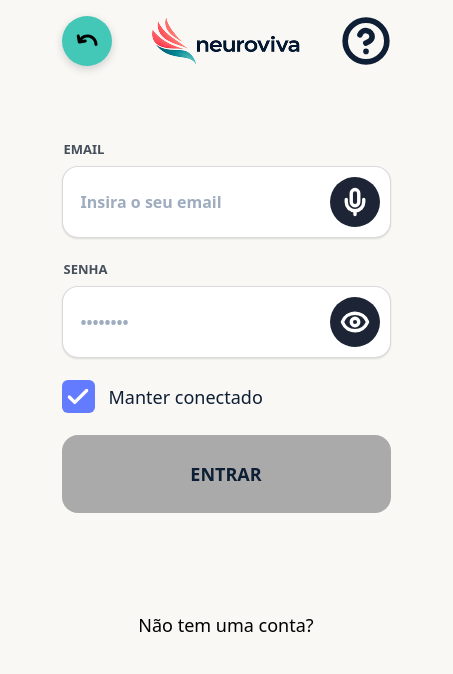
Test: login with Dona Cida mock still opens the active care plan
In the field labelled "EMAIL": coordinates (199, 202) top-left (78, 190), bottom-right (320, 214), type "donacida@limbse.com"
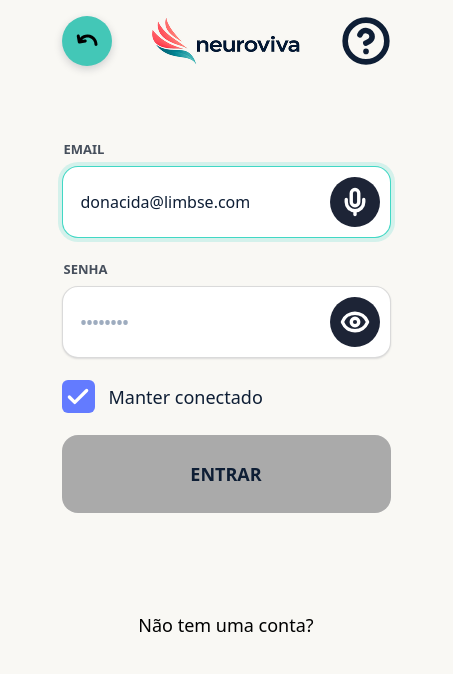
In the password field labelled "SENHA": coordinates (199, 322) top-left (78, 310), bottom-right (320, 334), type "123456"
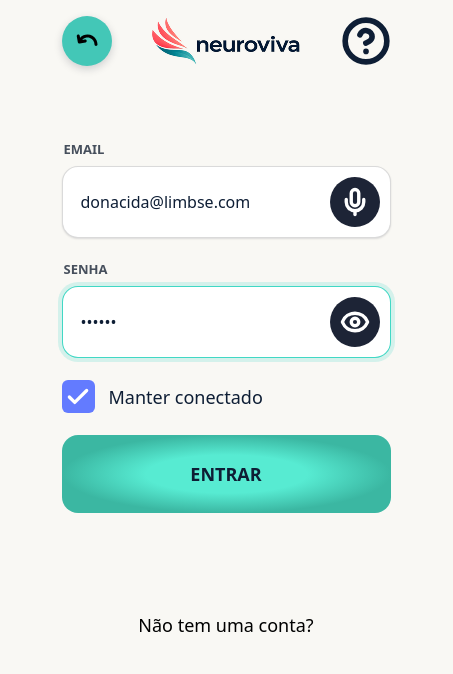
Click the button "ENTRAR": coordinates (226, 474) top-left (62, 435), bottom-right (390, 513)
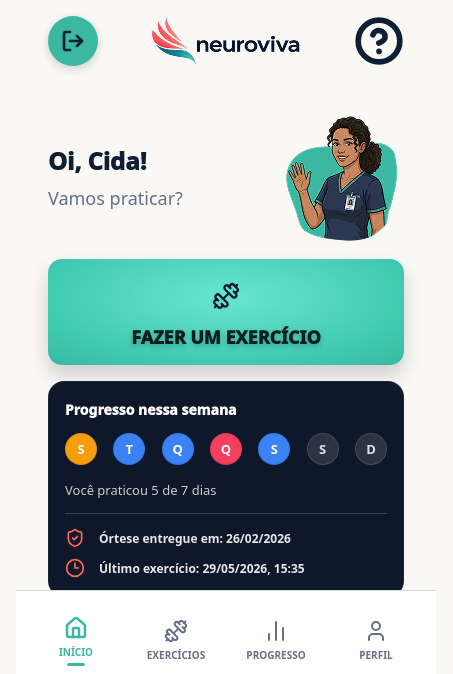
Expected: the heading "Oi, Cida!" is shown, top-left (48, 144), bottom-right (147, 178)
Expected: the button "FAZER UM EXERCÍCIO" is shown, top-left (48, 259), bottom-right (404, 365)
